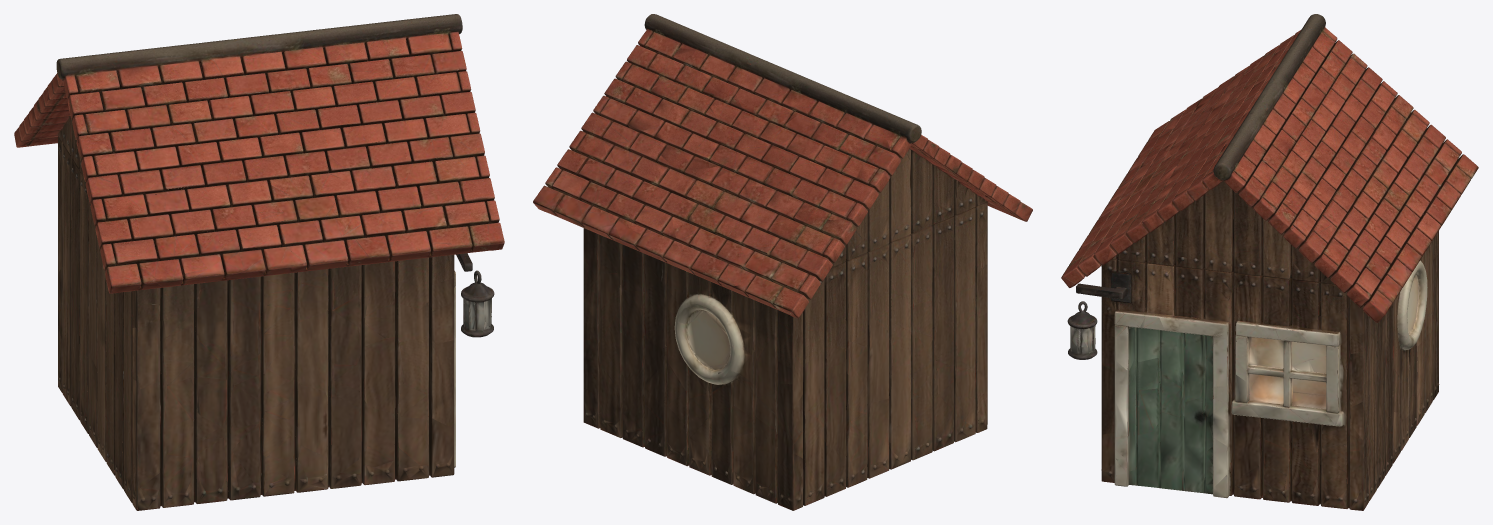
The model's file is Meshy_AI_Mossy_Roof_Cottage_1001065040_texture.glb.
The picture shows the model from 3 angles, left to right: view 1: azimuth 30°, elevation 25°; view 2: azimuth 150°, elevation 25°; view 3: azimuth 270°, elevation 25°; orthographic projection. The views are drawn at different scales.
Parts seen in each view (by area): view 1: MESHY_CABANA; view 2: MESHY_CABANA; view 3: MESHY_CABANA.
Boxes of the visible parts, box(x1,y1,x2,y2) form: MESHY_CABANA: box(14, 14, 504, 510); MESHY_CABANA: box(533, 14, 1032, 510); MESHY_CABANA: box(1061, 14, 1478, 510).
Bounding box in the file's own units: 2.15 × 1.9 × 2.06.
1 material, 1 textured.
